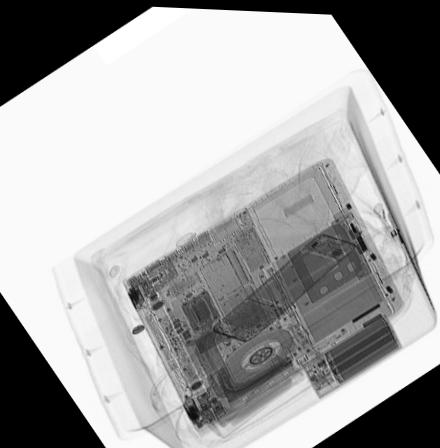Powerbank: (295, 306, 401, 398)
